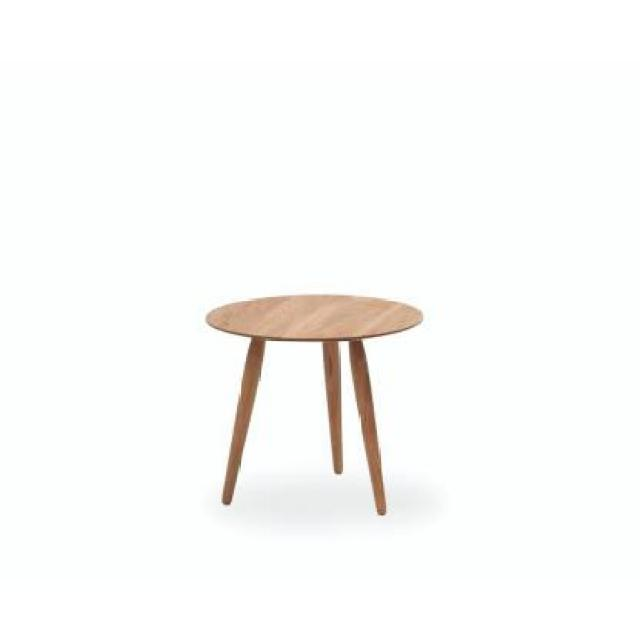table: (200, 291, 422, 523)
